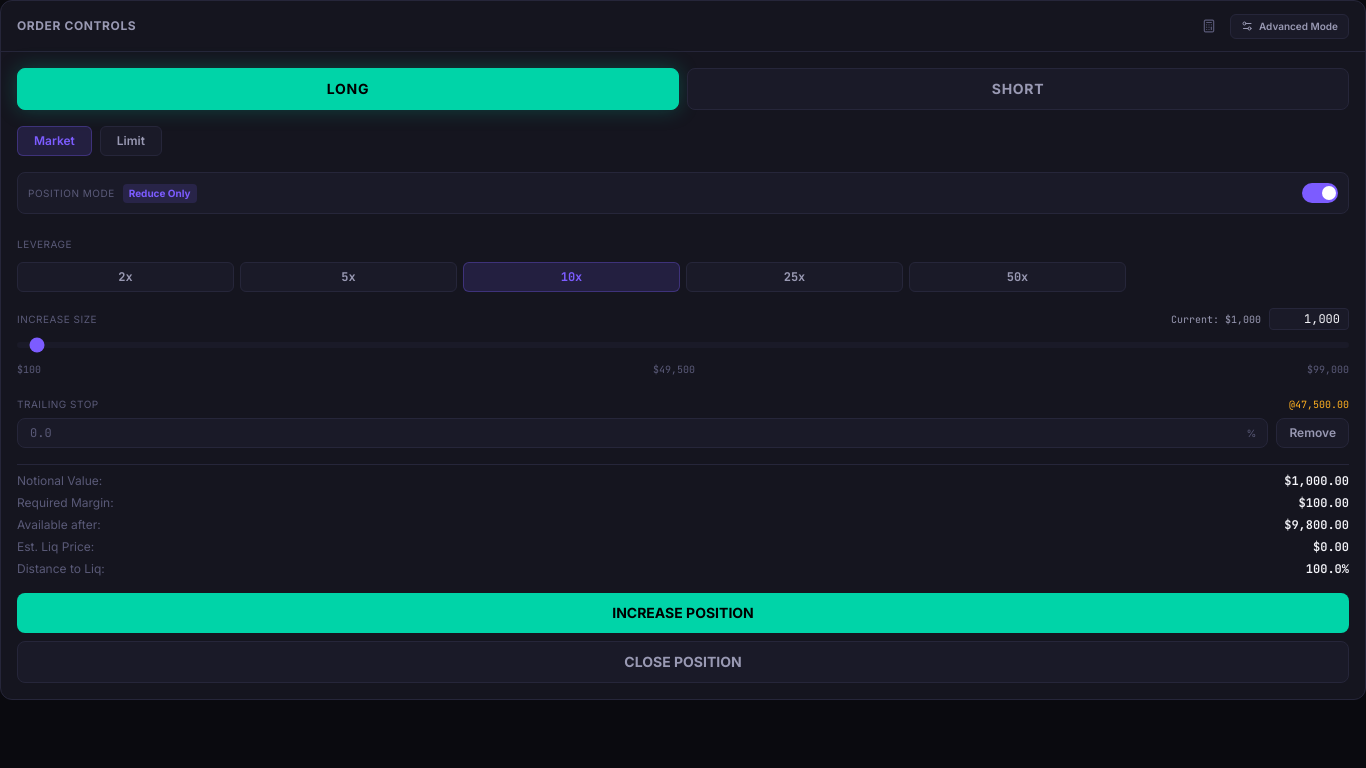
Test: TradeControls — trailing stop input › Remove button clears trailing stop and input
Click the button with test id "trailing-stop-remove".
click(1313, 433)  # box left=1276, top=418, right=1349, bottom=448
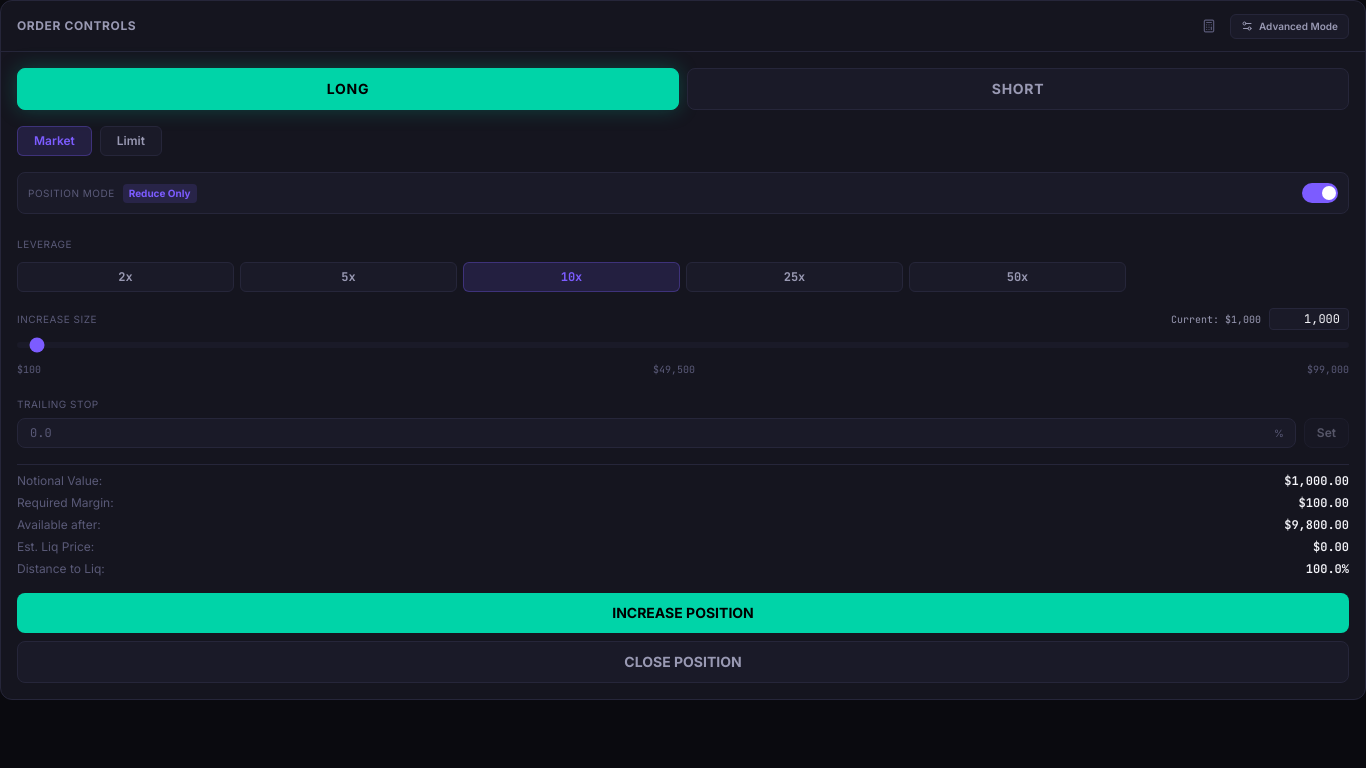
Expected: the number field with test id "trailing-stop-input" is not empty, left=17, top=418, right=1296, bottom=448
Now the button with test id "trailing-stop-set" is shown, box left=1304, top=418, right=1349, bottom=448
